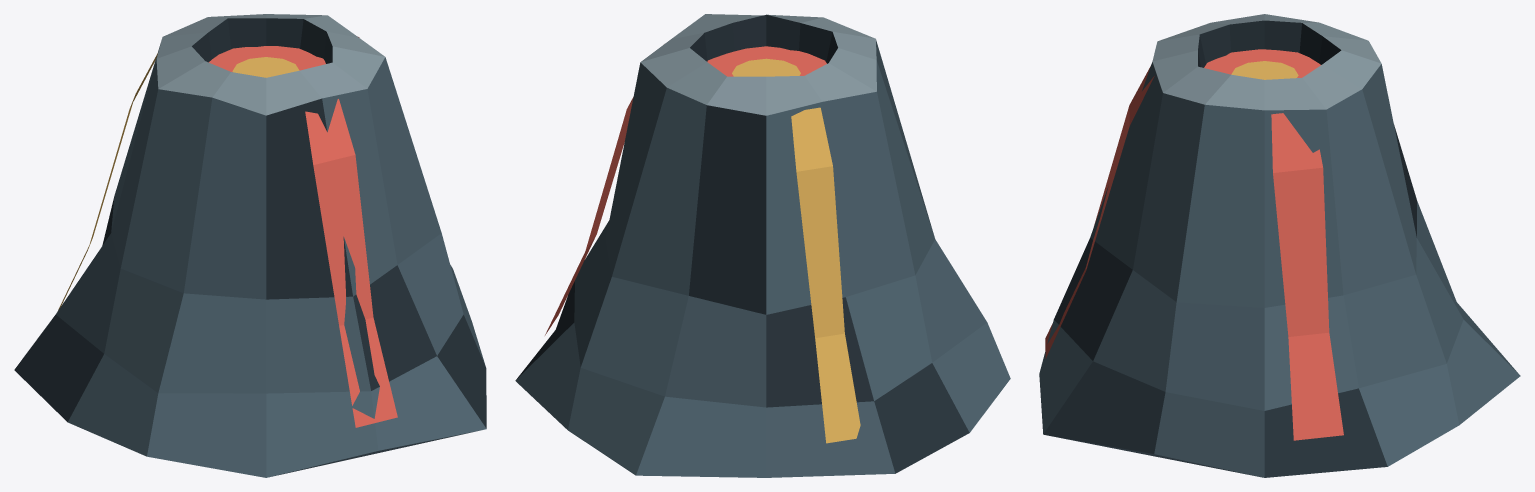
The model's file is volcano_v1.glb.
3 renders of one model, left to right at view 1: azimuth 30°, elevation 25°; view 2: azimuth 150°, elevation 25°; view 3: azimuth 270°, elevation 25°, orthographic. The views are drawn at different scales.
Visible parts, largest first — view 1: Volcano / hollow faceted cone, Volcano / lava rivulet 3, Volcano / glowing crater pool, Volcano / hot pool center, Volcano / lava rivulet 2; view 2: Volcano / hollow faceted cone, Volcano / lava rivulet 2, Volcano / glowing crater pool, Volcano / lava rivulet 1, Volcano / hot pool center; view 3: Volcano / hollow faceted cone, Volcano / lava rivulet 1, Volcano / glowing crater pool, Volcano / lava rivulet 3, Volcano / hot pool center.
Boxes of the visible parts, x1,y1,x2,y2 form: Volcano / hollow faceted cone: (14, 14, 486, 477); Volcano / lava rivulet 3: (305, 99, 397, 427); Volcano / glowing crater pool: (209, 46, 325, 72); Volcano / hot pool center: (232, 57, 299, 77); Volcano / lava rivulet 2: (58, 53, 157, 310); Volcano / hollow faceted cone: (515, 14, 1010, 477); Volcano / lava rivulet 2: (791, 107, 860, 443); Volcano / glowing crater pool: (707, 46, 826, 76); Volcano / lava rivulet 1: (545, 97, 633, 335); Volcano / hot pool center: (732, 58, 800, 76); Volcano / hollow faceted cone: (1039, 14, 1520, 477); Volcano / lava rivulet 1: (1271, 113, 1343, 440); Volcano / glowing crater pool: (1204, 49, 1320, 77); Volcano / lava rivulet 3: (1045, 66, 1154, 358); Volcano / hot pool center: (1231, 61, 1298, 79).
Bounding box in the file's own units: 0.8841 × 0.6873 × 0.9078.
